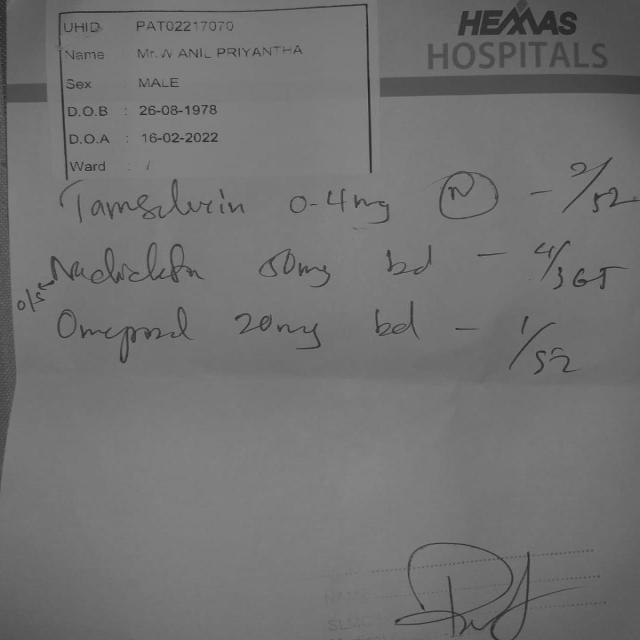Prescription: (52, 303, 588, 386), (44, 236, 622, 296), (54, 167, 640, 223)
